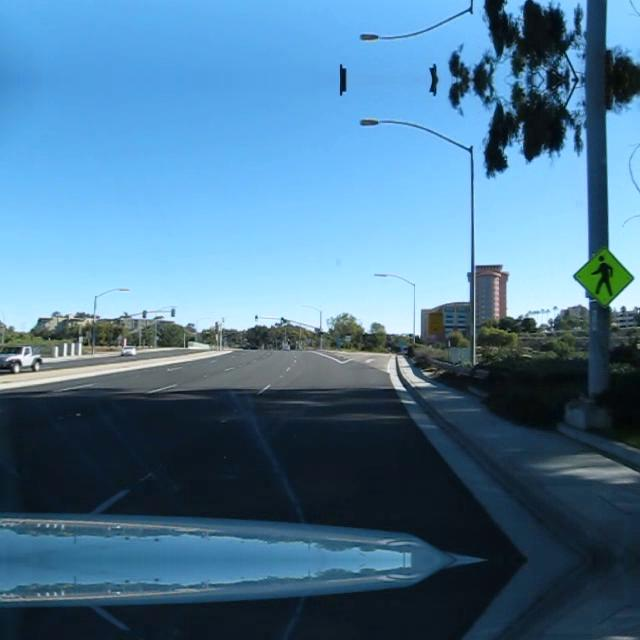pedestrianCrossing: (572, 245, 634, 307)
